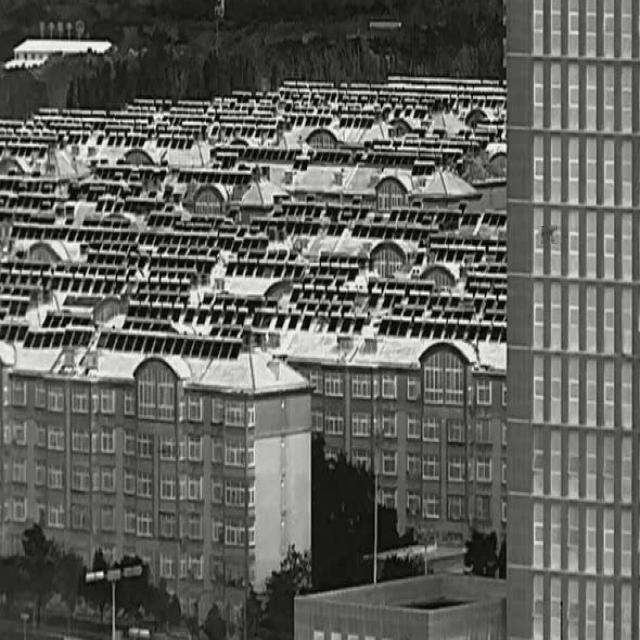drone: (542, 226, 557, 244)
